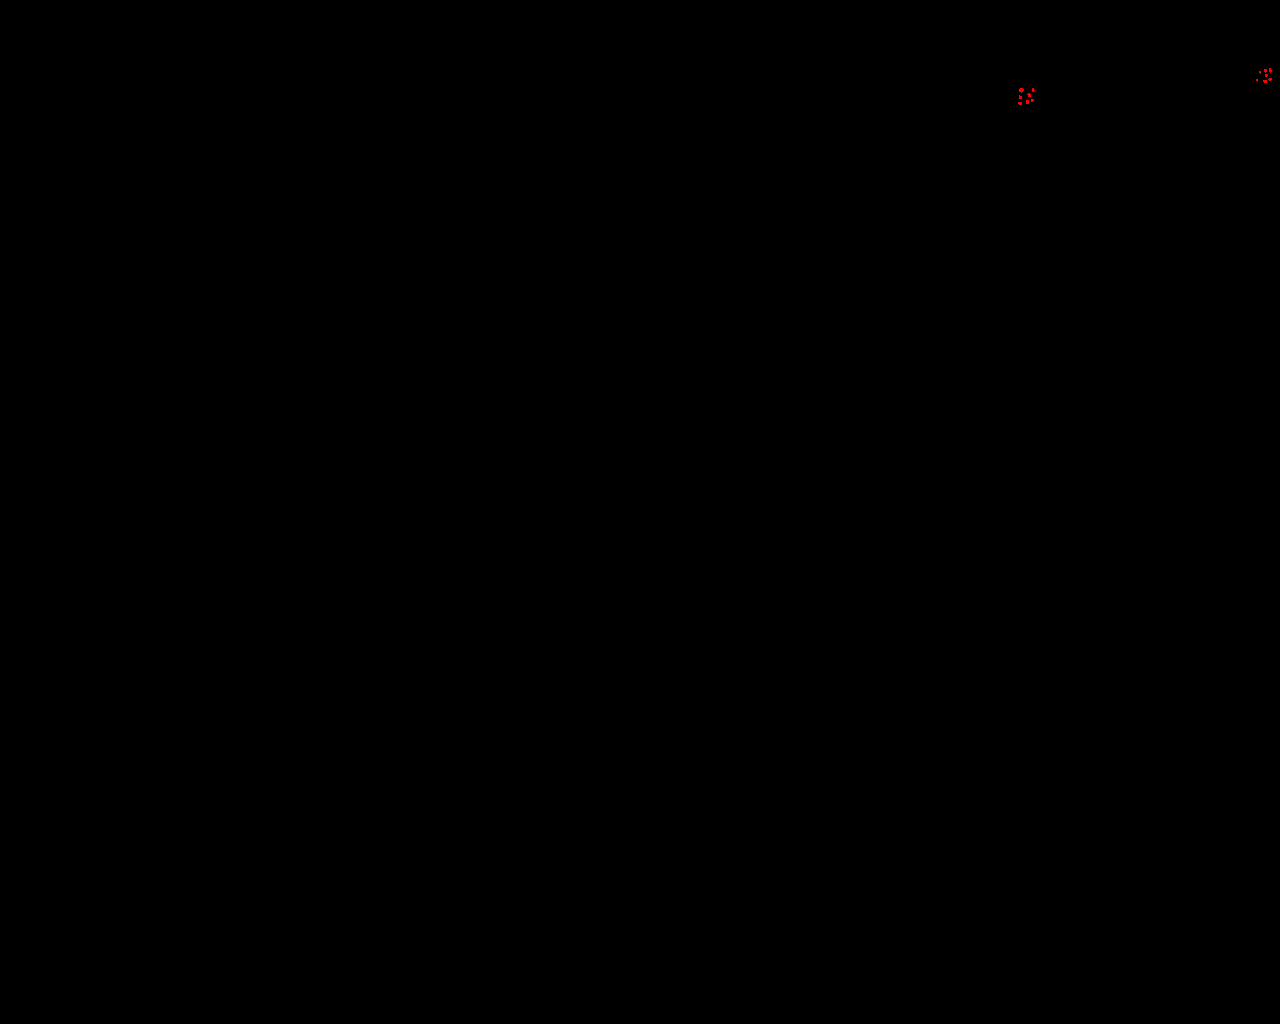Target: (1019, 88, 1024, 93), (1027, 93, 1031, 97), (1269, 68, 1272, 73), (1264, 69, 1267, 73), (1032, 88, 1035, 92), (1019, 95, 1022, 99), (1026, 100, 1029, 104), (1265, 74, 1269, 77), (1269, 78, 1272, 82), (1031, 99, 1034, 102), (1263, 80, 1267, 83), (1018, 102, 1022, 104), (1259, 71, 1261, 74), (1256, 79, 1258, 82)
